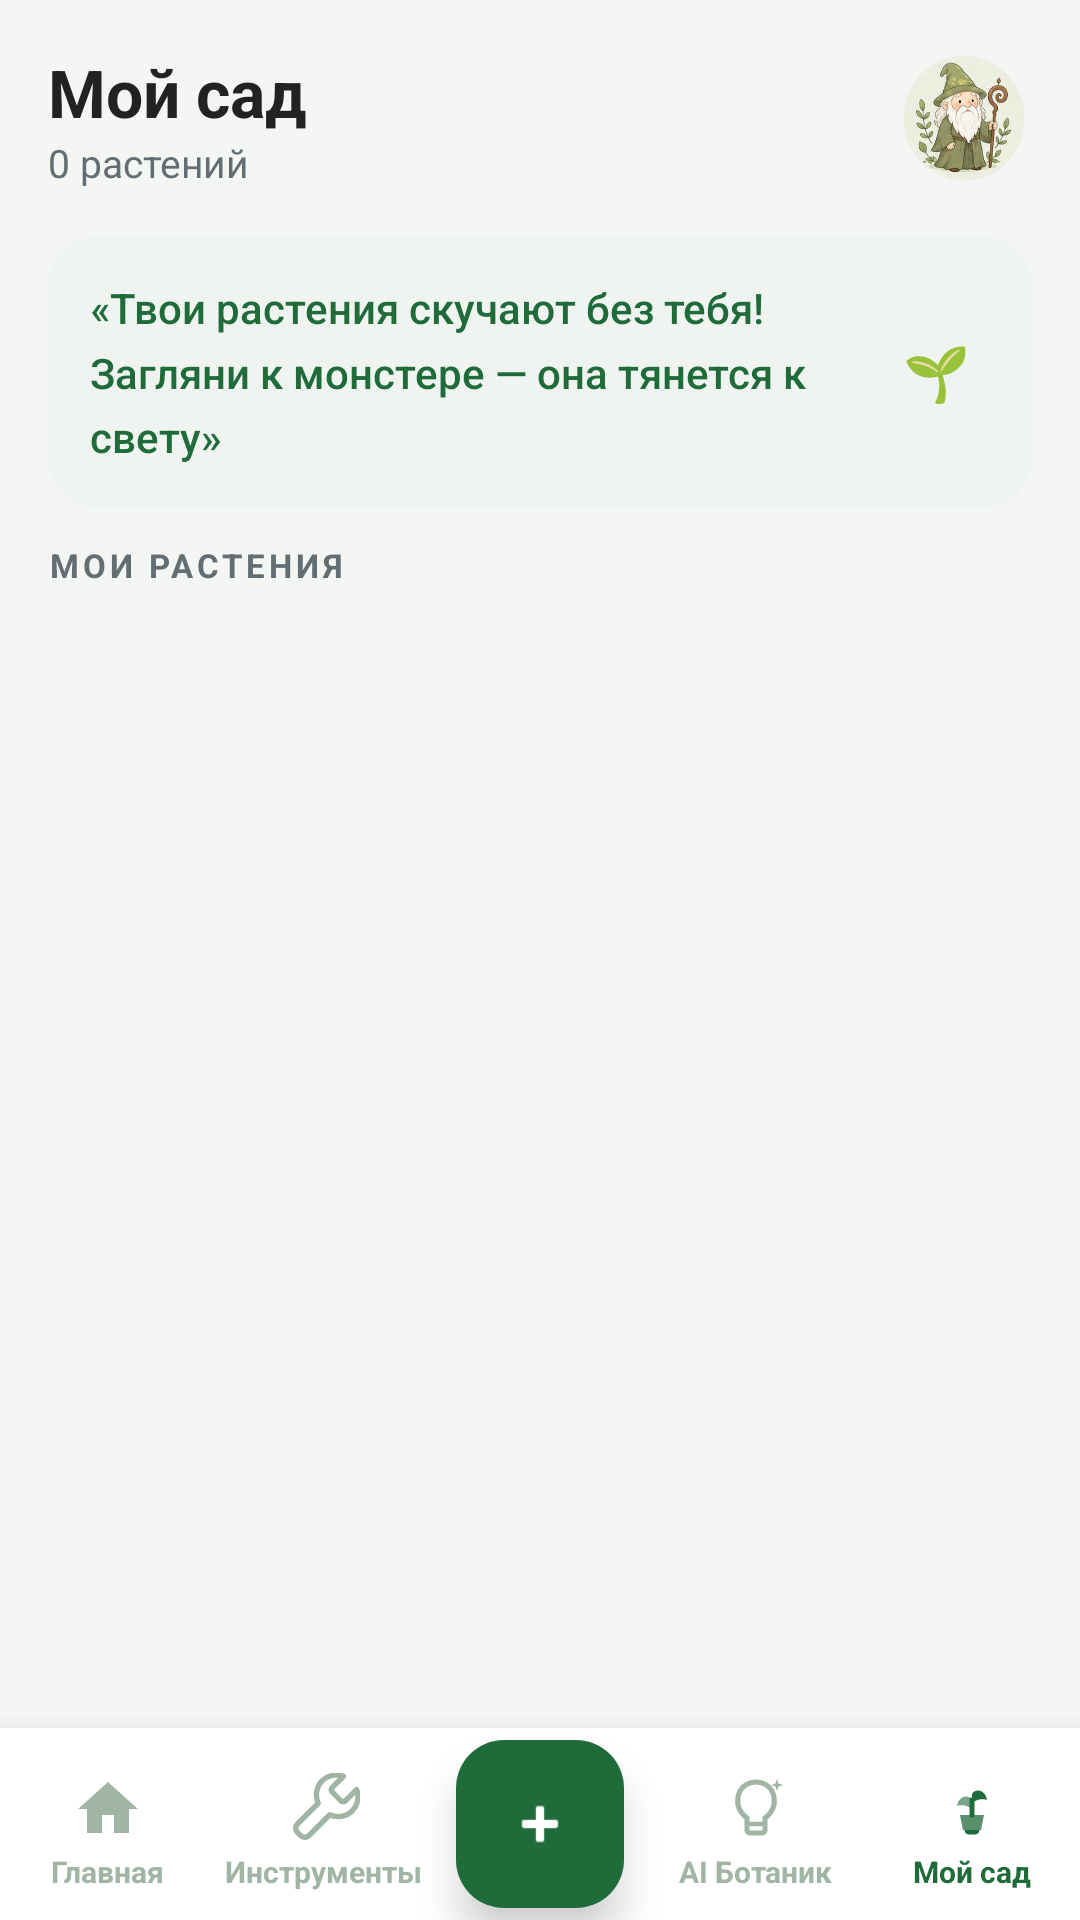

Where icons sit on this 1080w x 1920h app screen, as (x1, y1, x2, y2):
Добавить растение: (456, 1740, 624, 1908)
